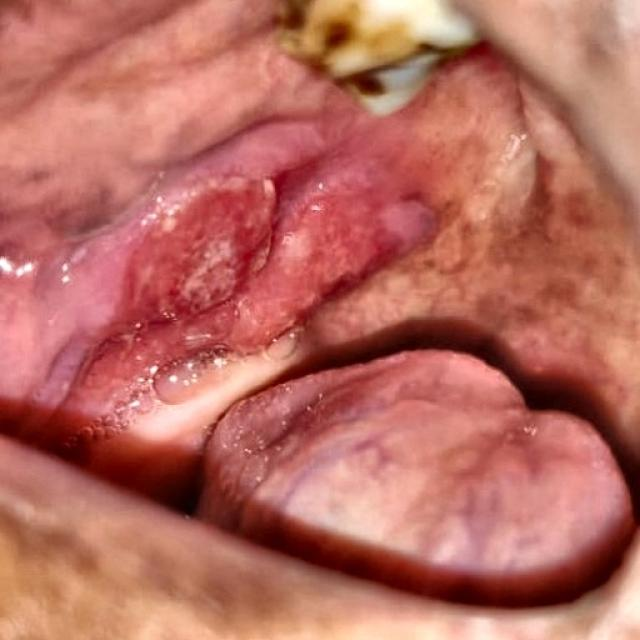cancer-detection: (0, 113, 504, 515)
processing_area: (0, 0, 639, 633)
